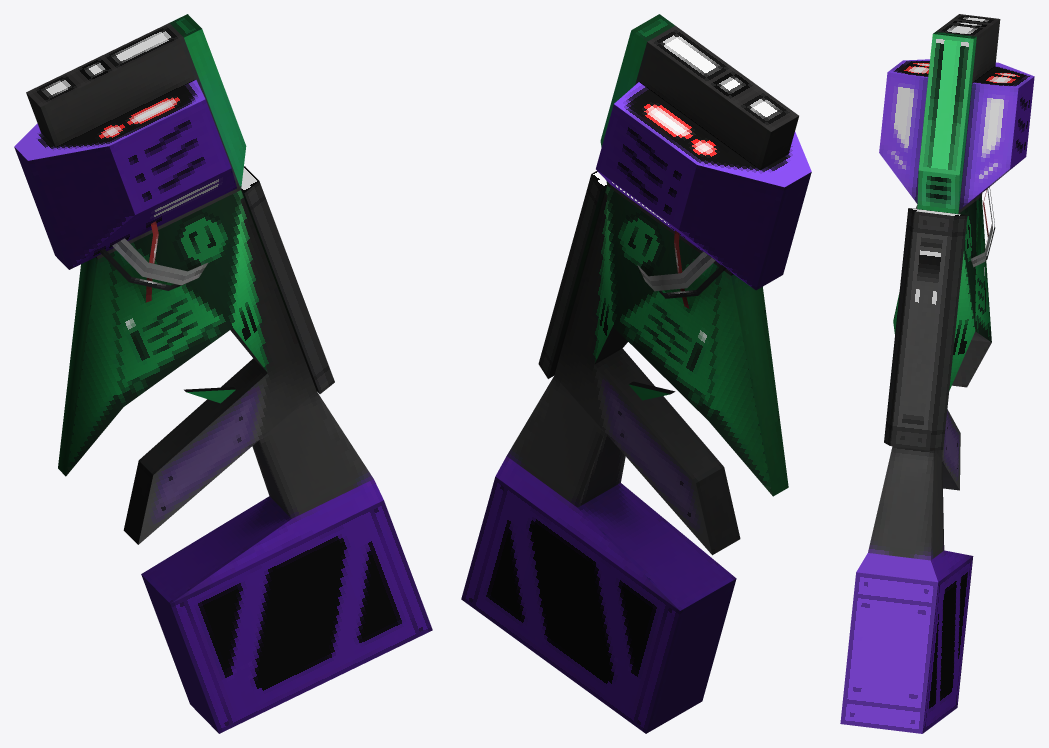
File: exo_red.gltf
The picture shows the model from 3 angles, left to right: view 1: azimuth 30°, elevation 25°; view 2: azimuth 150°, elevation 25°; view 3: azimuth 270°, elevation 25°; orthographic projection. The views are drawn at different scales.
Visible parts, largest first — view 1: smg.001; view 2: smg.001; view 3: smg.001.
Part boxes in pixels (box(x1,y1,x2,y2)): smg.001: box(14, 14, 432, 733); smg.001: box(461, 14, 811, 733); smg.001: box(840, 14, 1034, 733).
Size of the model in its own units: 0.3274 by 0.6005 by 0.1569.
1 material, 1 textured.
